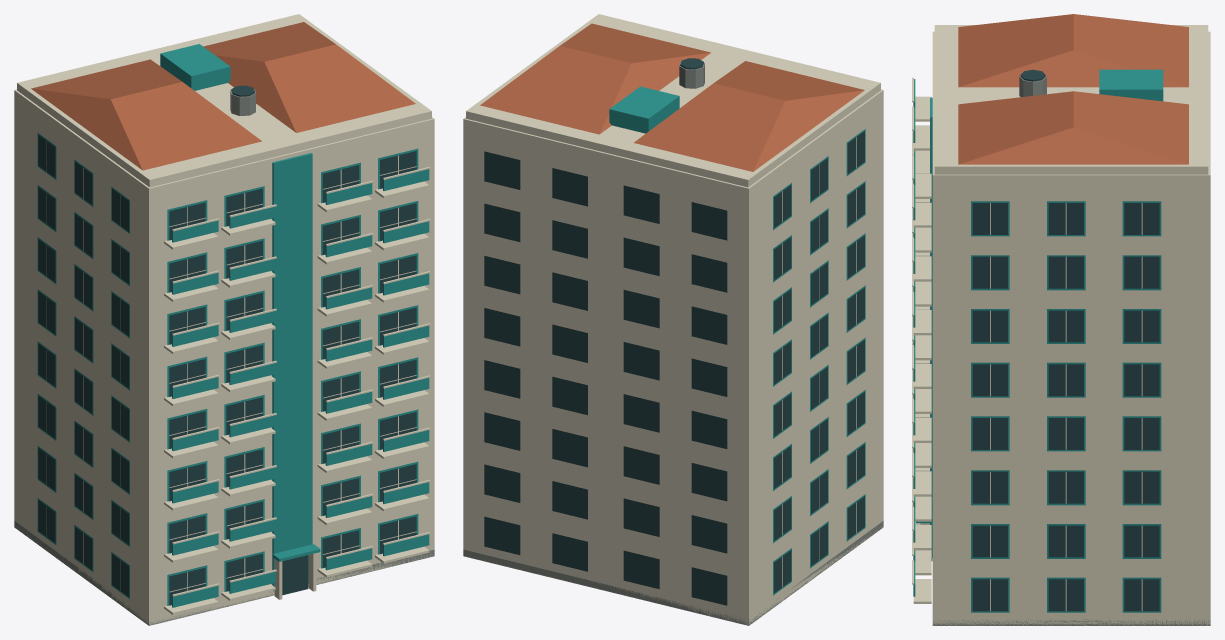
File: KeralaApartment_A.glb
The picture shows the model from 3 angles, left to right: view 1: azimuth 30°, elevation 25°; view 2: azimuth 150°, elevation 25°; view 3: azimuth 270°, elevation 25°; orthographic projection. The views are drawn at different scales.
Visible parts, largest first — view 1: KeralaApartment_A_Warm_Lime_Plaster, KeralaApartment_A_Kerala_Teal_Trim, KeralaApartment_A_Deep_Window_Glass, KeralaApartment_A_Terracotta_Roof, KeralaApartment_A_Stone_And_Metal; view 2: KeralaApartment_A_Warm_Lime_Plaster, KeralaApartment_A_Deep_Window_Glass, KeralaApartment_A_Terracotta_Roof, KeralaApartment_A_Kerala_Teal_Trim, KeralaApartment_A_Stone_And_Metal; view 3: KeralaApartment_A_Warm_Lime_Plaster, KeralaApartment_A_Terracotta_Roof, KeralaApartment_A_Deep_Window_Glass, KeralaApartment_A_Kerala_Teal_Trim, KeralaApartment_A_Stone_And_Metal.
Part boxes in pixels (<box>): KeralaApartment_A_Warm_Lime_Plaster: <box>14,14,434,625</box>; KeralaApartment_A_Kerala_Teal_Trim: <box>37,44,429,607</box>; KeralaApartment_A_Deep_Window_Glass: <box>38,85,416,605</box>; KeralaApartment_A_Terracotta_Roof: <box>31,22,415,170</box>; KeralaApartment_A_Stone_And_Metal: <box>14,89,434,625</box>; KeralaApartment_A_Warm_Lime_Plaster: <box>463,14,883,625</box>; KeralaApartment_A_Deep_Window_Glass: <box>484,58,864,605</box>; KeralaApartment_A_Terracotta_Roof: <box>480,23,864,171</box>; KeralaApartment_A_Kerala_Teal_Trim: <box>609,86,865,595</box>; KeralaApartment_A_Stone_And_Metal: <box>463,62,883,625</box>; KeralaApartment_A_Warm_Lime_Plaster: <box>912,25,1210,625</box>; KeralaApartment_A_Terracotta_Roof: <box>958,14,1188,164</box>; KeralaApartment_A_Deep_Window_Glass: <box>931,69,1159,611</box>; KeralaApartment_A_Kerala_Teal_Trim: <box>913,69,1163,612</box>; KeralaApartment_A_Stone_And_Metal: <box>932,75,1210,625</box>.
Size of the model in its own units: 16 by 25 by 14.
